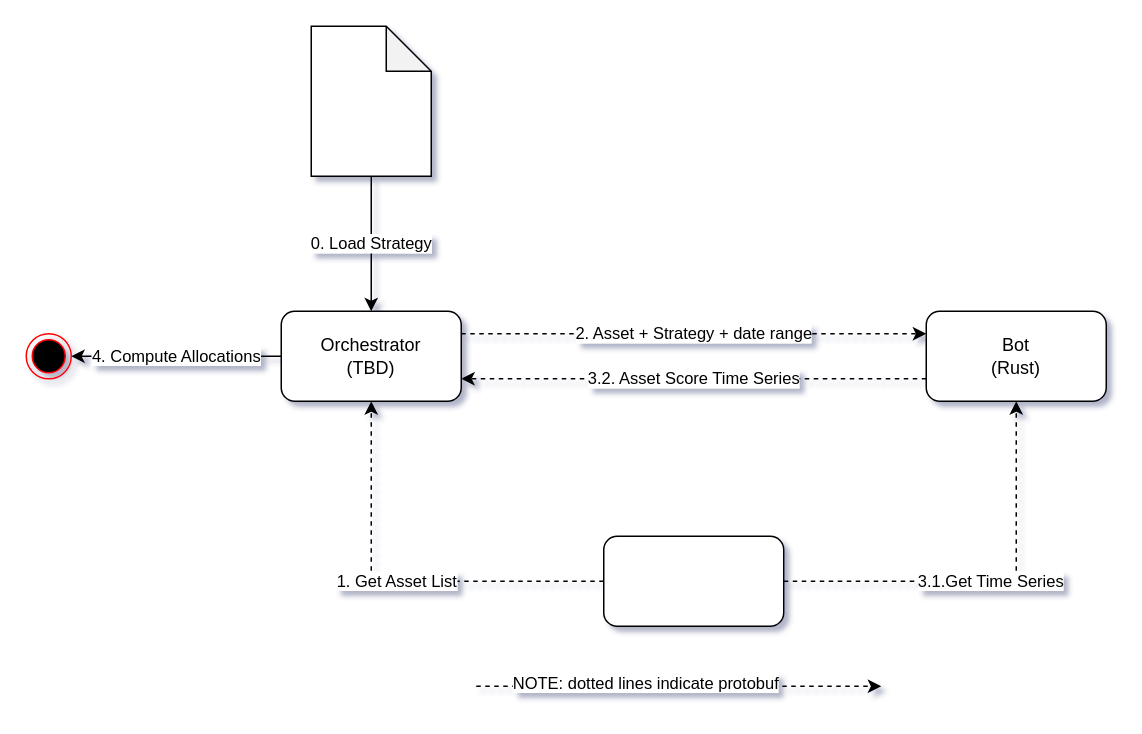
This 1142x734 diagram has some shape labels left out. The shapes that lost their labels are listed below. From the top down, each one's box as (x1, y1, x2, y2) in pixels, then its label:
(310, 25, 431, 176): Strategy (yaml)
(602, 535, 784, 626): Query (Go)
